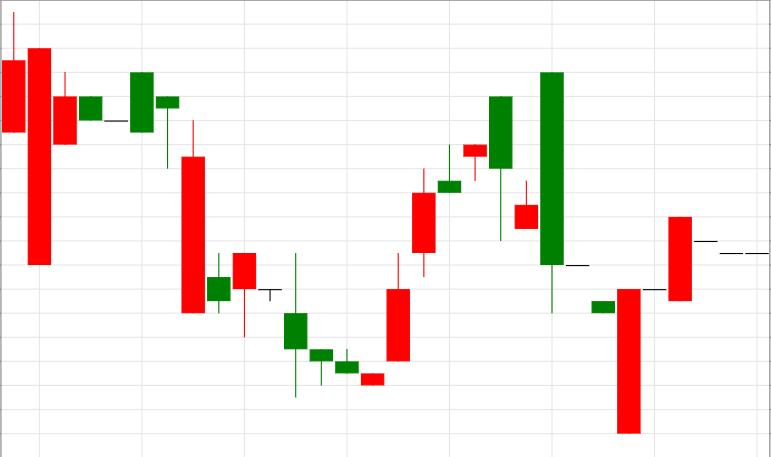bullish_engulfing_rise: (489, 73, 641, 434)
three_white_soldiers_rise: (131, 73, 436, 397)
